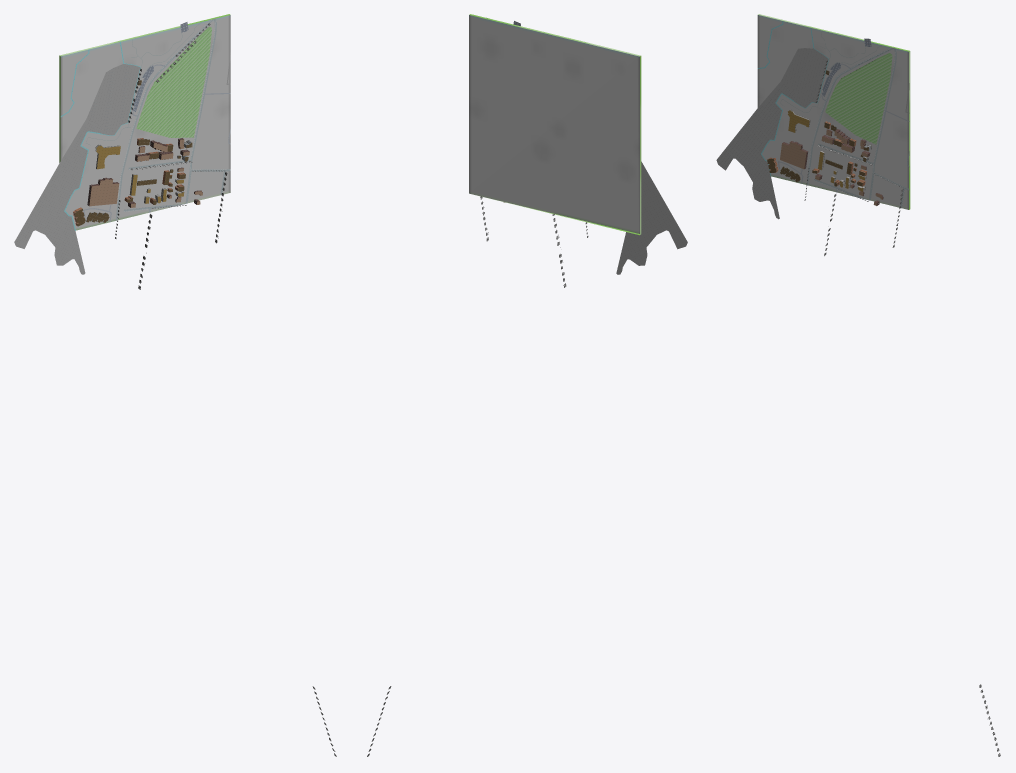
The picture shows the model from 3 angles, left to right: view 1: azimuth 30°, elevation 25°; view 2: azimuth 150°, elevation 25°; view 3: azimuth 330°, elevation 25°; orthographic projection. The views are drawn at different scales.
Visible parts, largest first — view 1: POLYGON, BUILDING, POLYLINE, FONT; view 2: POLYGON; view 3: POLYGON, BUILDING, POLYLINE, FONT.
Boxes of the visible parts, x1=… form: POLYGON: x1=14, y1=14, x2=230, y2=274; BUILDING: x1=73, y1=80, x2=202, y2=226; POLYLINE: x1=60, y1=18, x2=230, y2=230; FONT: x1=115, y1=23, x2=336, y2=756; POLYGON: x1=469, y1=14, x2=687, y2=274; POLYGON: x1=716, y1=14, x2=910, y2=219; BUILDING: x1=767, y1=70, x2=883, y2=205; POLYLINE: x1=757, y1=21, x2=909, y2=208; FONT: x1=804, y1=50, x2=1000, y2=756.
Size of the model in its own units: 1151 by 2647 by 29.
Materials: 3 (3 with a texture image).
